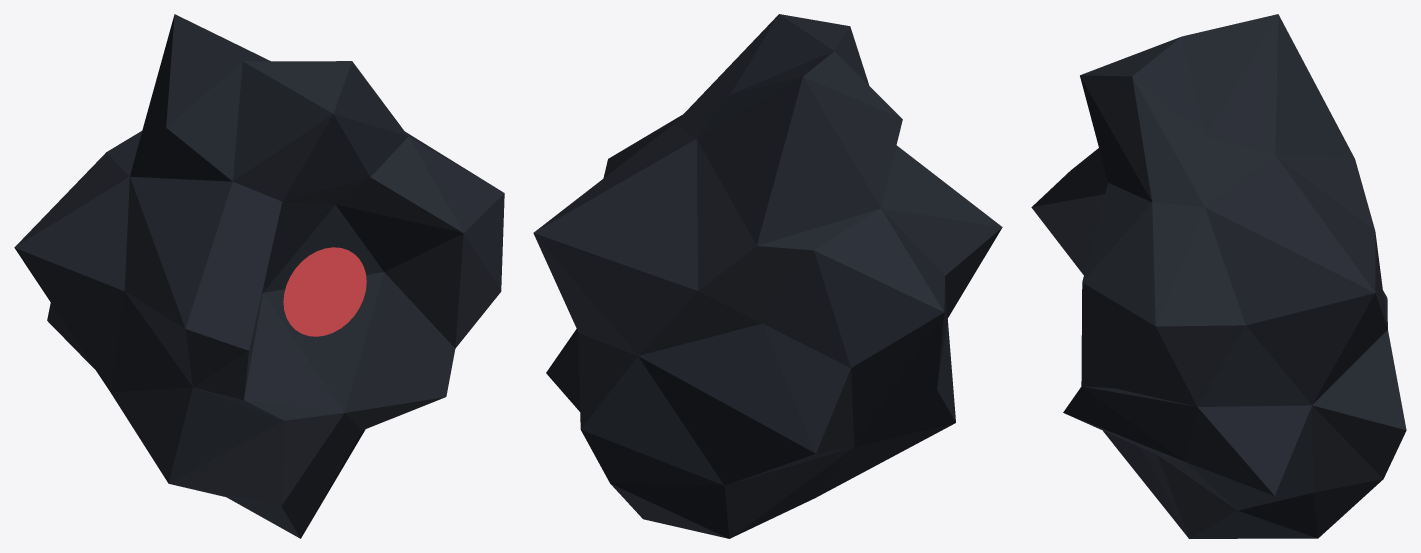
File: rock.fbx
3 views of the same model, side by side, from view 1: azimuth 30°, elevation 25°; view 2: azimuth 150°, elevation 25°; view 3: azimuth 270°, elevation 25° (orthographic). The views are drawn at different scales.
Visible parts, largest first — view 1: Enemy; view 2: Enemy; view 3: Enemy.
Boxes of the visible parts, x1,y1,x2,y2 form: Enemy: (14, 14, 504, 538); Enemy: (533, 14, 1002, 538); Enemy: (1031, 14, 1406, 538).
Size of the model in its own units: 1.57 by 1.81 by 1.26.
